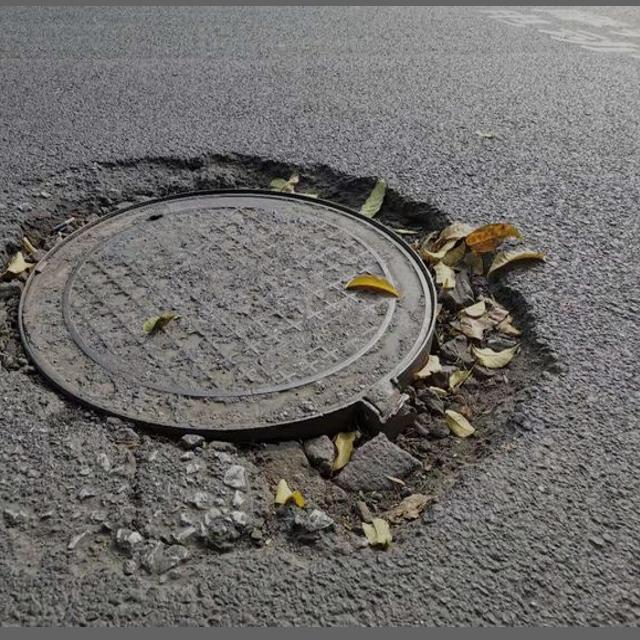circle: (0, 151, 542, 558)
